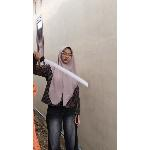Pedang: (33, 53, 95, 90)
